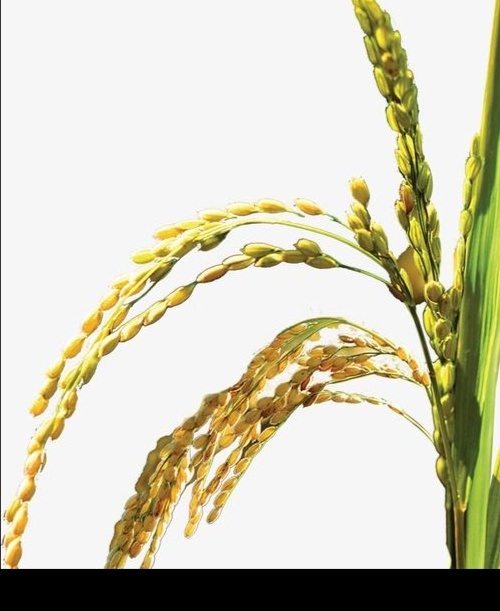rice: (3, 171, 412, 564)
